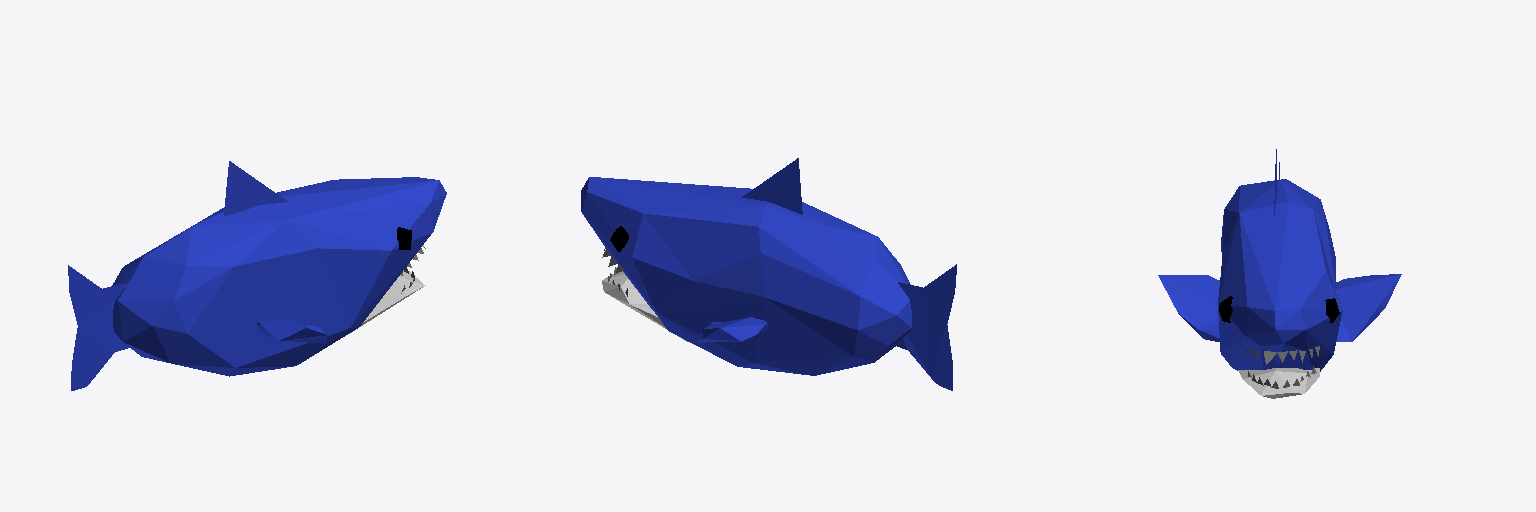
Rendered from RequinReduced.obj.
3 views of the same model, side by side, from view 1: azimuth 30°, elevation 25°; view 2: azimuth 150°, elevation 25°; view 3: azimuth 270°, elevation 25° (orthographic).
Visible parts, largest first — view 1: Cube; view 2: Cube; view 3: Cube.
Part boxes in pixels (left/top/right/bottom): Cube: left=68, top=161, right=446, bottom=390; Cube: left=581, top=158, right=956, bottom=390; Cube: left=1158, top=149, right=1401, bottom=398.
Bounding box in the file's own units: 16.56 × 8.72 × 9.27.